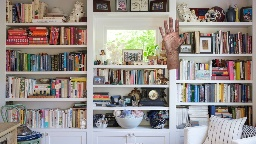Mano_aperta: (156, 15, 188, 54)
